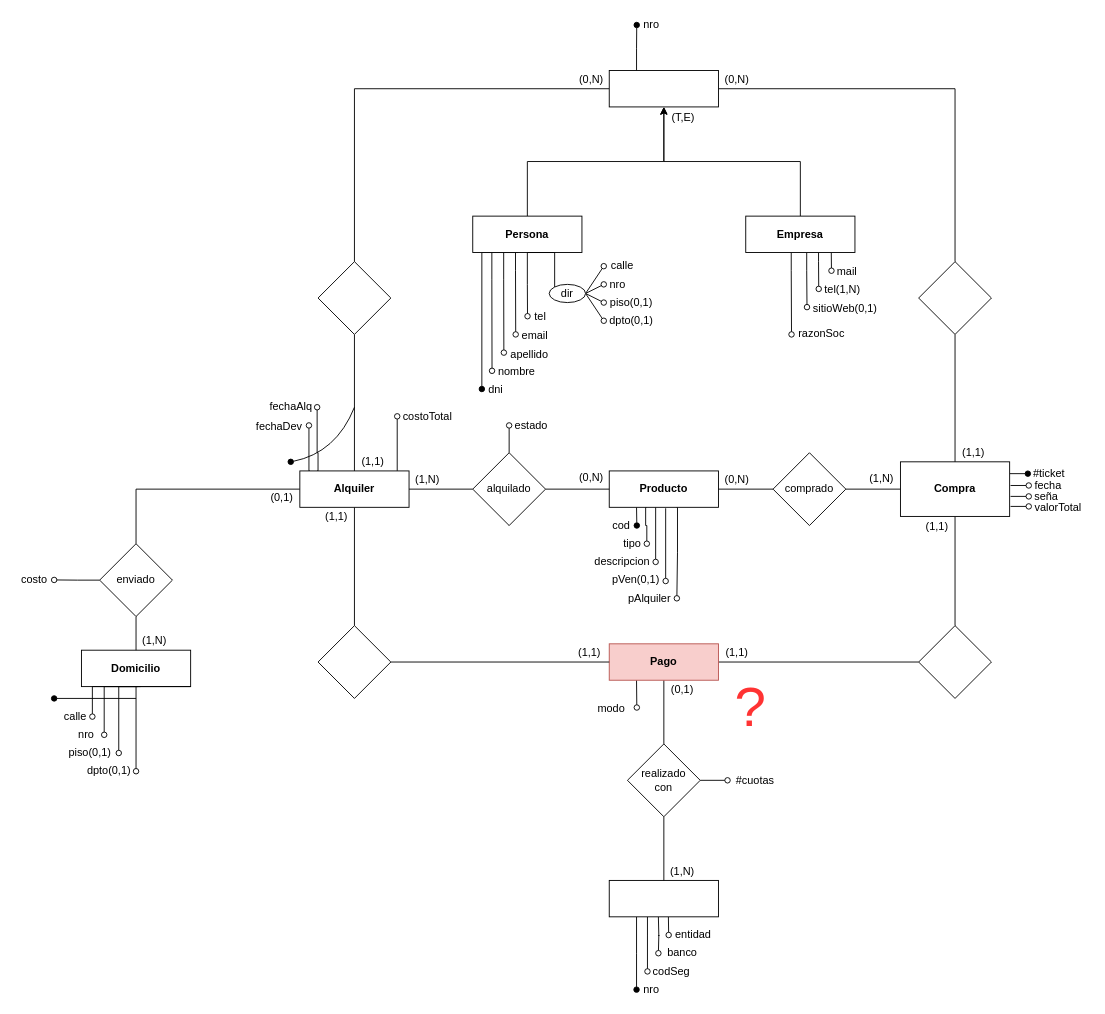
This 1105x1014 diagram has some shape labels left out. Each missing label, with the centre of its shape:
"alquiler pagado" belongs at pixel 354 661.
"Cliente" belongs at pixel 663 88.
"compra pagada" belongs at pixel 954 661.
"realiza" belongs at pixel 954 297.
"solicita" belongs at pixel 354 297.
"Tarjeta" belongs at pixel 663 898.
